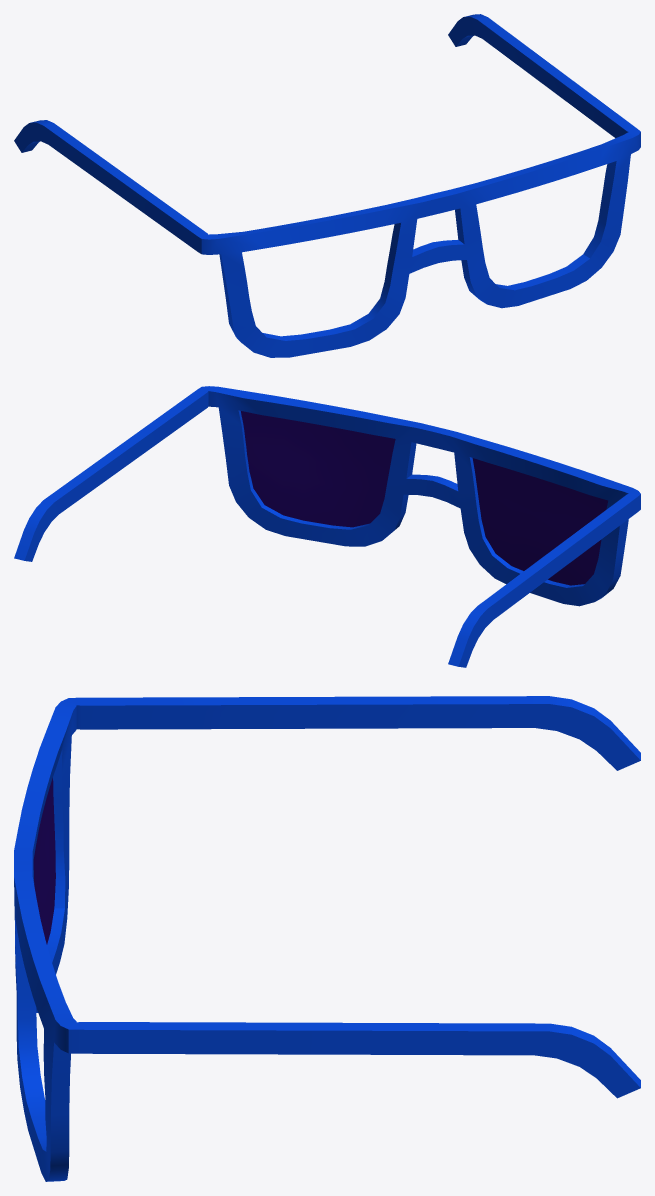
File: Sunglasses.fbx
The picture shows the model from 3 angles, top to bottom: view 1: azimuth 30°, elevation 25°; view 2: azimuth 150°, elevation 25°; view 3: azimuth 270°, elevation 25°; orthographic projection. The views are drawn at different scales.
Visible parts, largest first — view 1: sunglasses.001; view 2: sunglasses.001; view 3: sunglasses.001.
Part boxes in pixels (box(x1,y1,x2,y2)): sunglasses.001: box(14, 14, 640, 357); sunglasses.001: box(14, 386, 640, 667); sunglasses.001: box(14, 696, 640, 1181).
Bounding box in the file's own units: 23.25 × 6.58 × 18.37.
